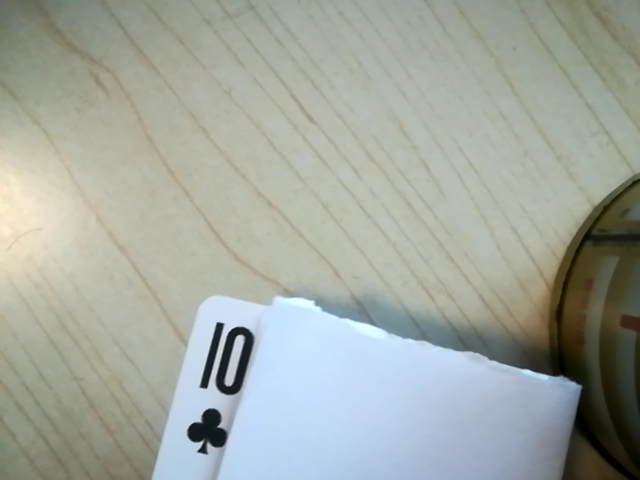mh 10: (180, 313, 265, 468)
